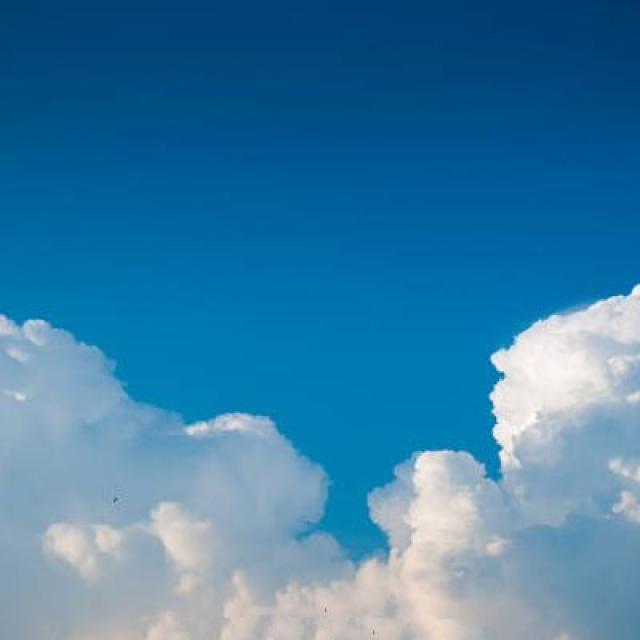Cu: (1, 297, 640, 640)
